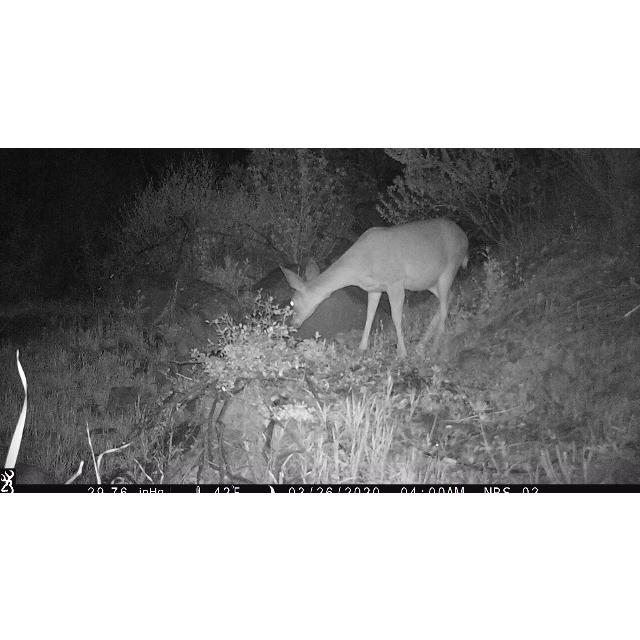animals: (282, 215, 473, 359)
